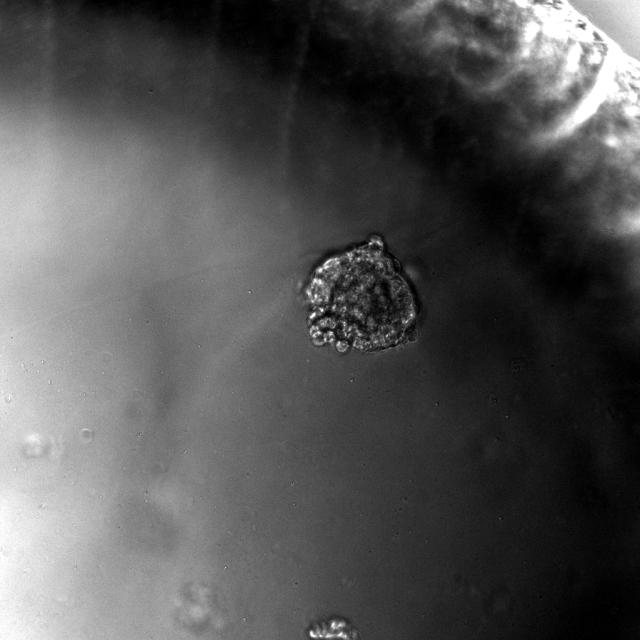organoid: (304, 235, 418, 353), (307, 616, 361, 639)
